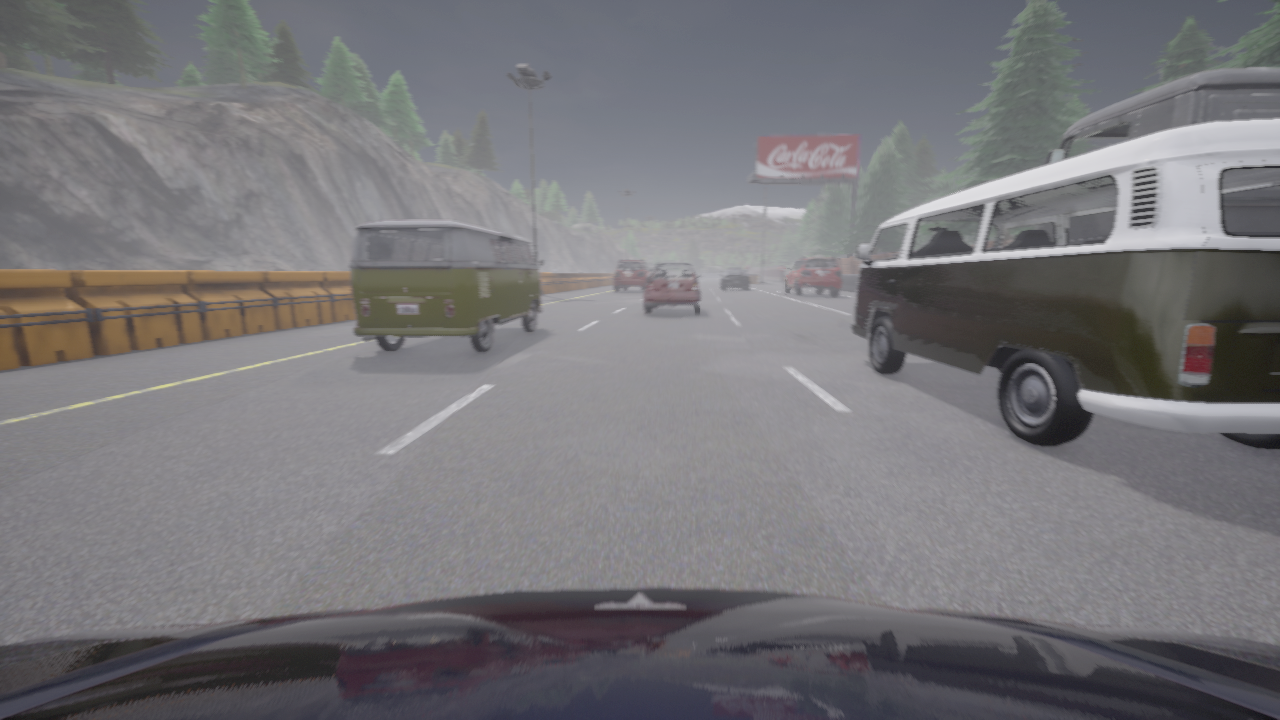cyclist: (0, 588, 1279, 719), (851, 119, 1279, 449), (349, 220, 543, 352), (1044, 68, 1279, 165), (644, 262, 701, 314), (784, 257, 840, 296), (613, 261, 652, 292), (720, 268, 748, 290)
